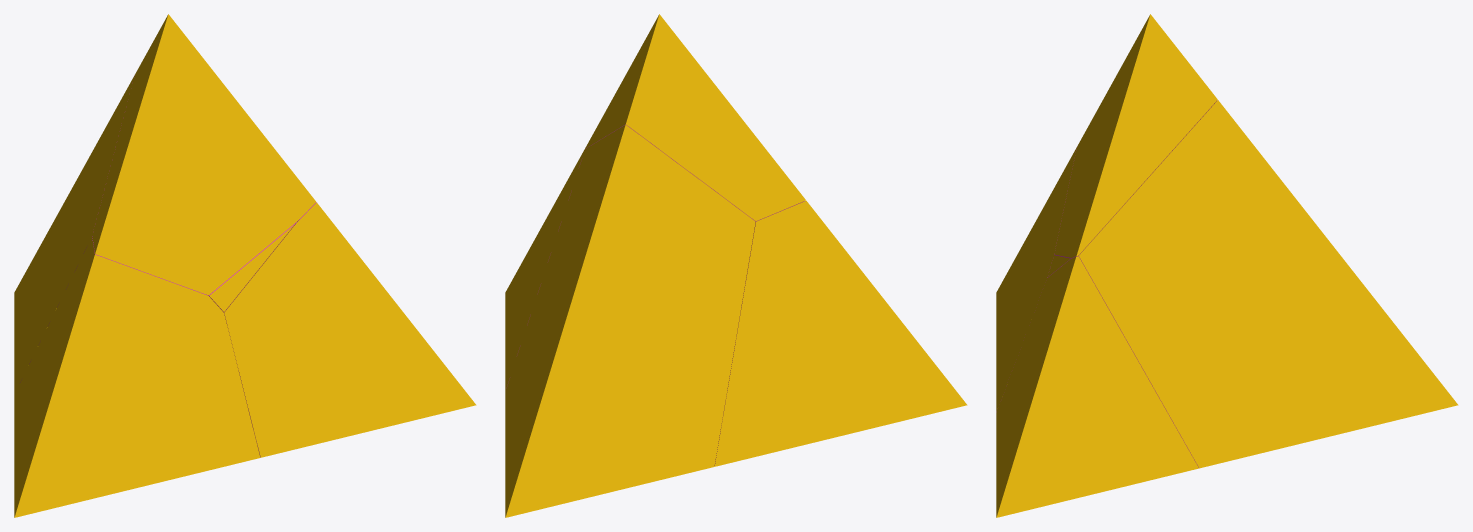
The model's file is TriangleFractureBaked6.glb.
The picture shows the model from 3 angles, left to right: view 1: azimuth 30°, elevation 25°; view 2: azimuth 150°, elevation 25°; view 3: azimuth 270°, elevation 25°; orthographic projection.
Parts seen in each view (by area): view 1: Cone_cell.002, Cone_cell.001, Cone_cell.003, Cone_cell; view 2: Cone_cell, Cone_cell.002, Cone_cell.003, Cone_cell.001; view 3: Cone_cell, Cone_cell.001, Cone_cell.003, Cone_cell.002.
Part boxes in pixels (bbox=[...]): Cone_cell.002: bbox=[14, 237, 260, 517]; Cone_cell.001: bbox=[224, 202, 476, 457]; Cone_cell.003: bbox=[92, 14, 315, 295]; Cone_cell: bbox=[14, 75, 299, 393]; Cone_cell: bbox=[505, 124, 755, 517]; Cone_cell.002: bbox=[714, 200, 967, 466]; Cone_cell.003: bbox=[585, 14, 805, 221]; Cone_cell.001: bbox=[505, 148, 585, 390]; Cone_cell: bbox=[1047, 100, 1458, 468]; Cone_cell.001: bbox=[996, 256, 1198, 517]; Cone_cell.003: bbox=[1054, 14, 1217, 257]; Cone_cell.002: bbox=[996, 147, 1076, 412].
Size of what is drawn, in the model's own units: 3.24 by 2.62 by 2.81.
